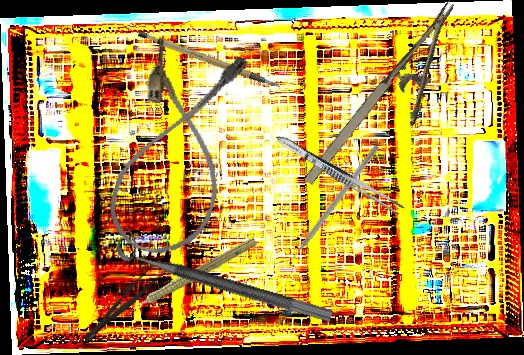Cannula: (100, 33, 255, 267)
Chopper: (278, 139, 380, 269)
Dressing Forceps: (272, 131, 408, 218), (78, 252, 175, 348)
Fixation Ring: (113, 224, 340, 325)
Handpiece: (120, 231, 260, 319)
Needle Holder: (298, 0, 491, 210)
Scalpel Handle: (136, 12, 282, 111)
